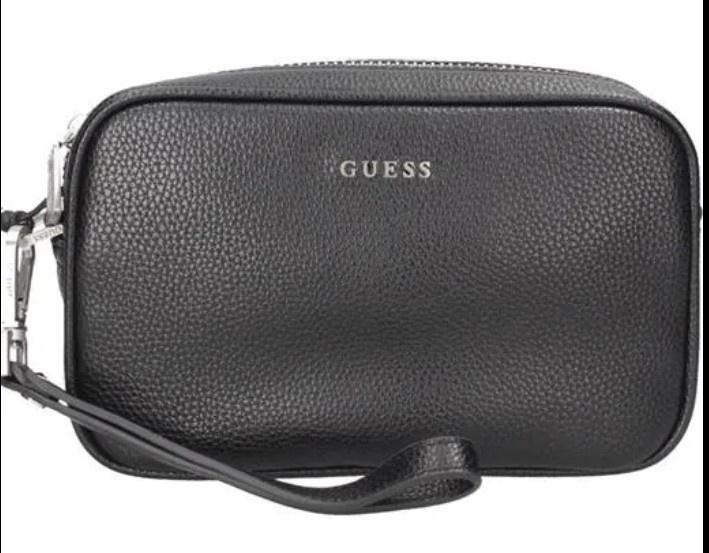GUESS: (340, 160, 431, 179)
